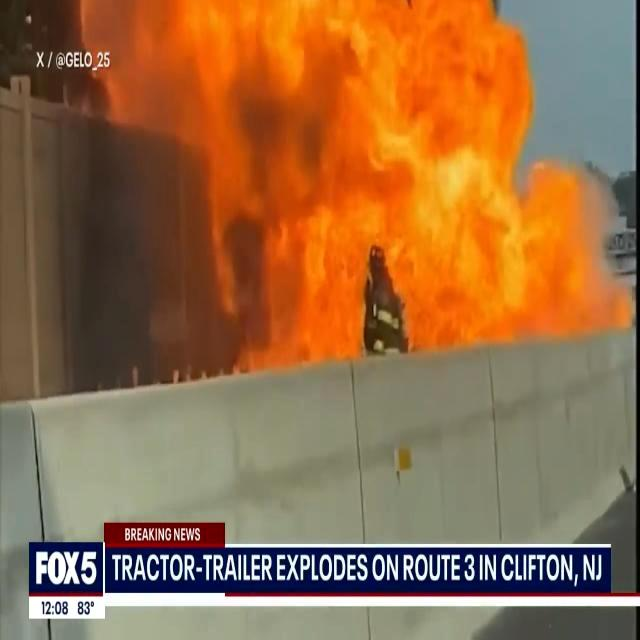fire: (126, 1, 552, 359)
